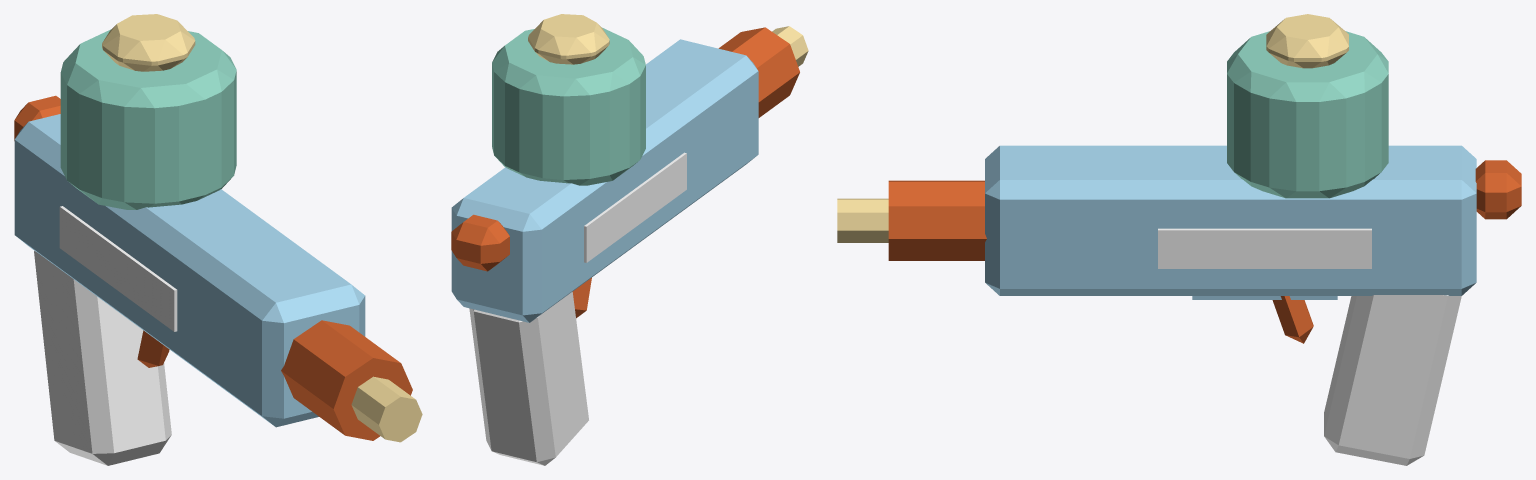
The model's file is CatCafe_Item_WaterSquirter.glb.
The picture shows the model from 3 angles, left to right: view 1: azimuth 30°, elevation 25°; view 2: azimuth 150°, elevation 25°; view 3: azimuth 270°, elevation 25°; orthographic projection. The views are drawn at different scales.
Parts seen in each view (by area): view 1: CatCafe_Item_WaterSquirter; view 2: CatCafe_Item_WaterSquirter; view 3: CatCafe_Item_WaterSquirter.
Part boxes in pixels (x1=…): CatCafe_Item_WaterSquirter: x1=14, y1=14, x2=422, y2=465; CatCafe_Item_WaterSquirter: x1=451, y1=14, x2=808, y2=465; CatCafe_Item_WaterSquirter: x1=837, y1=14, x2=1521, y2=465.
Size of the model in its own units: 0.3804 by 1.1 by 1.6.
Materials: 1 (1 with a texture image).
